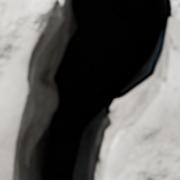broken_brick: (111, 18, 179, 179), (0, 0, 53, 174)
crack: (0, 0, 177, 179)
